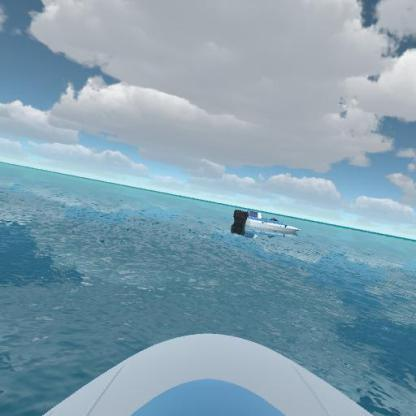usv1: (228, 202, 307, 243)
